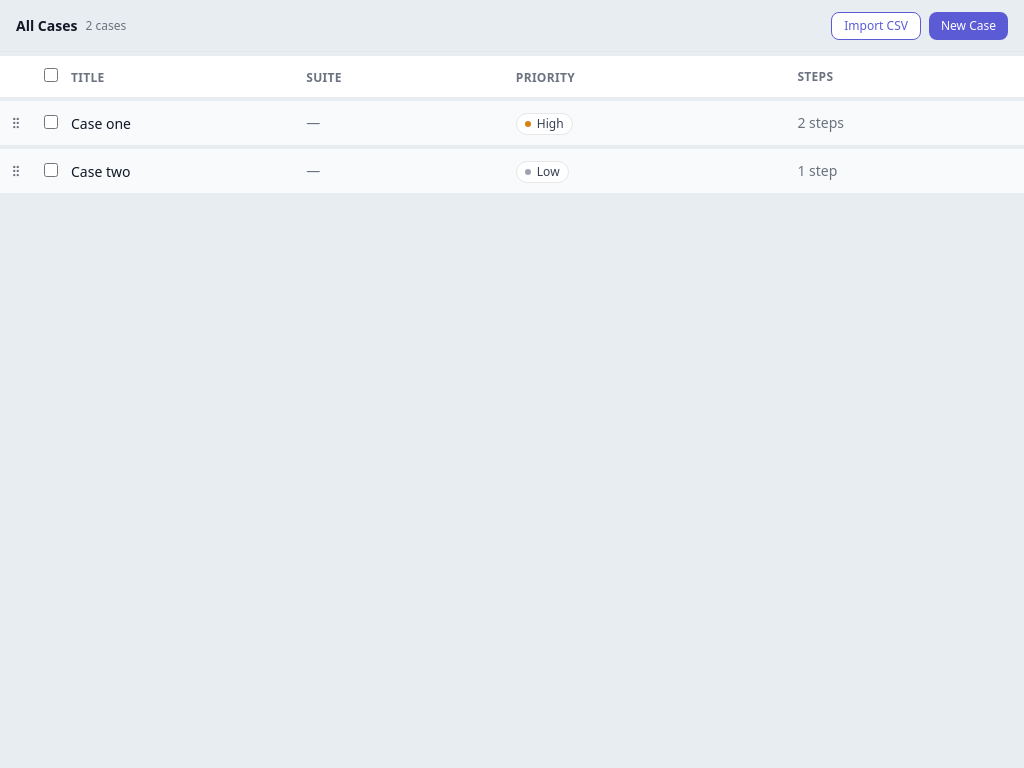
Scenario: CaseList — bulk delete feedback › successful bulk delete confirms with a toast and refetches
Click the checkbox named "Select all" at coordinates (51, 75), box 44,68 -> 58,82
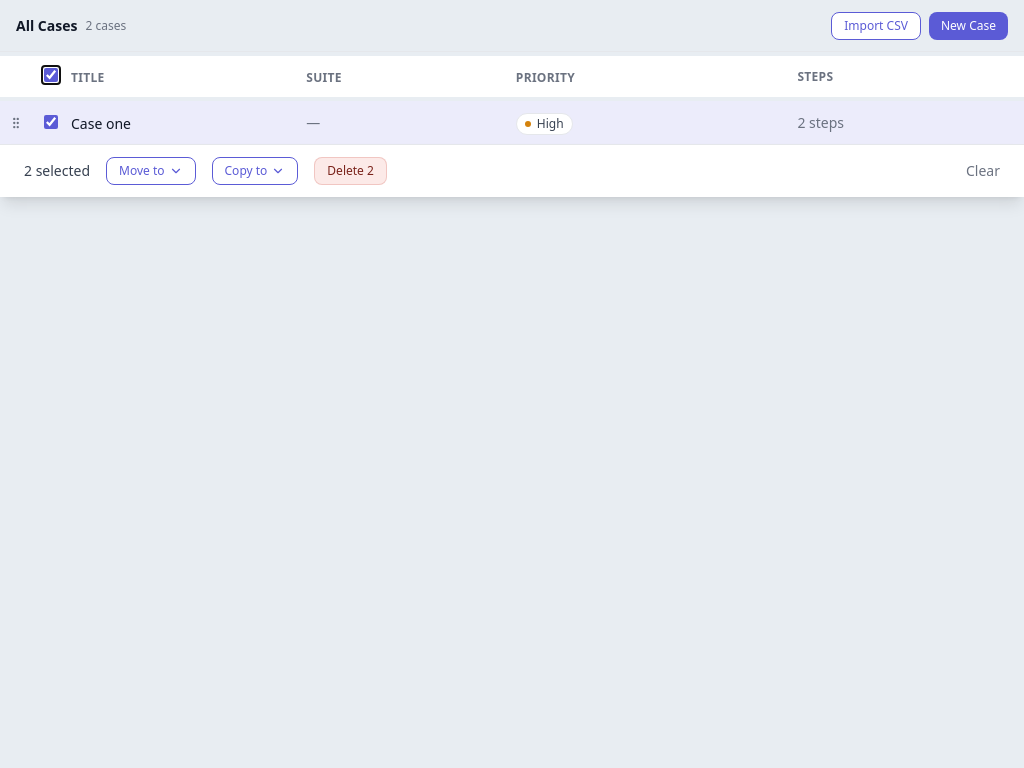
Click the button "Delete 2" at coordinates (351, 171), box 314,157 -> 387,185
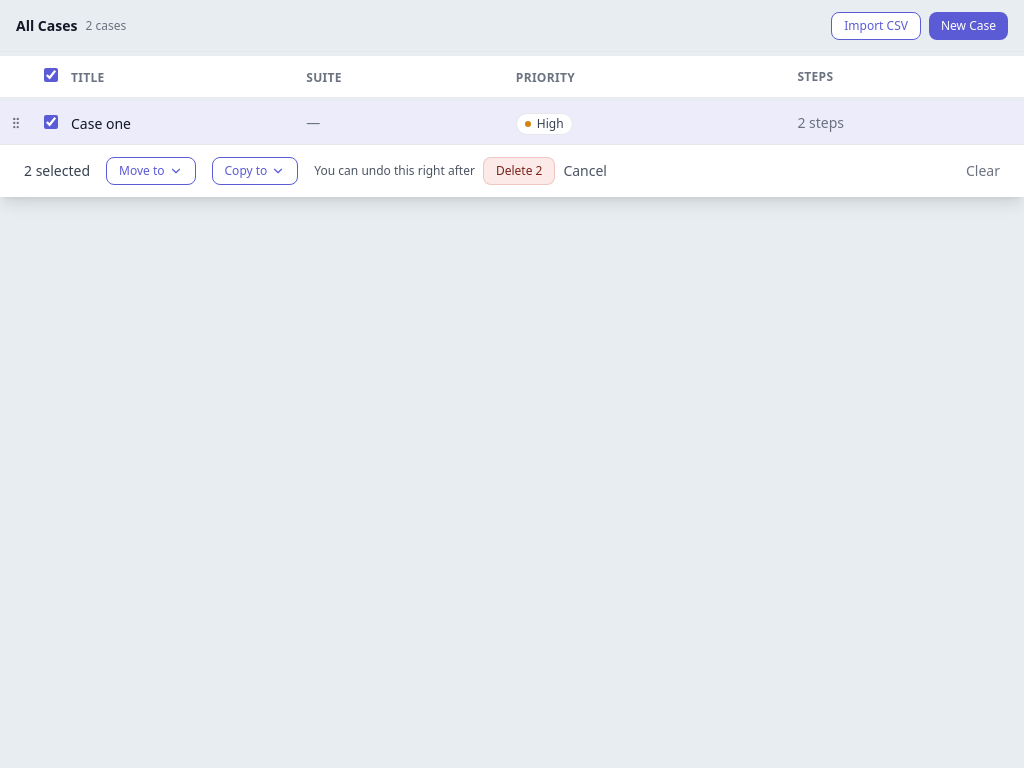
Click the button "Delete 2" at coordinates (519, 171), box 483,157 -> 555,185
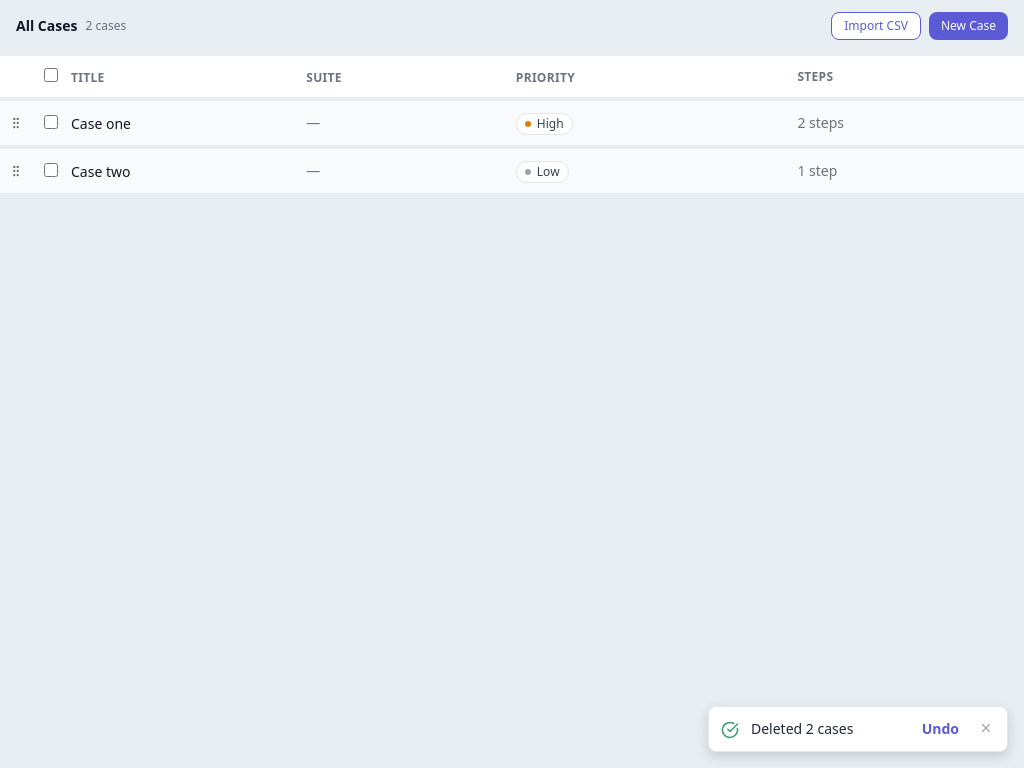
Expected: the text "Deleted 2 cases" is shown, 751,719 -> 853,738
